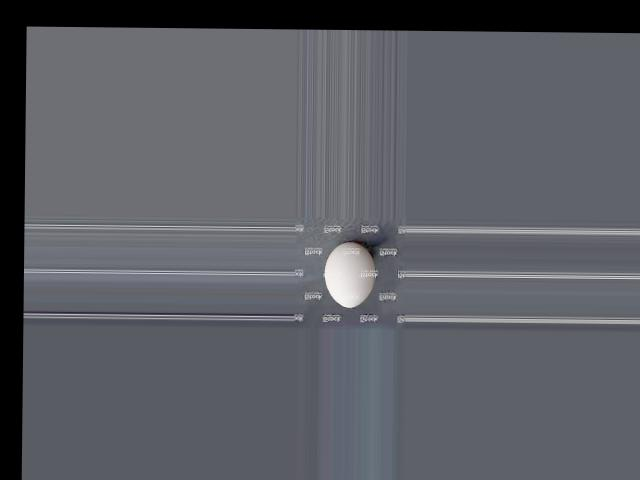egg: (324, 241, 375, 307)
